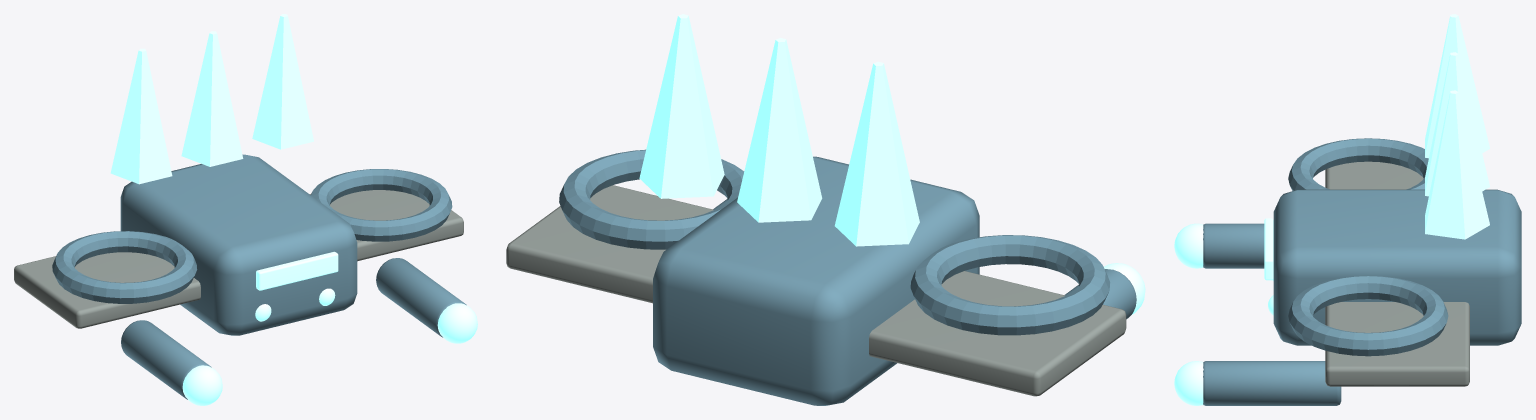
File: card_p1_drone.glb
3 views of the same model, side by side, from view 1: azimuth 30°, elevation 25°; view 2: azimuth 150°, elevation 25°; view 3: azimuth 270°, elevation 25° (orthographic). The views are drawn at different scales.
Visible parts, largest first — view 1: card_p1_drone; view 2: card_p1_drone; view 3: card_p1_drone.
Part boxes in pixels (box(x1,y1,x2,y2)): card_p1_drone: box(14, 14, 477, 405); card_p1_drone: box(506, 14, 1145, 405); card_p1_drone: box(1174, 14, 1521, 405).
Size of the model in its own units: 2.19 by 1.38 by 1.54.
